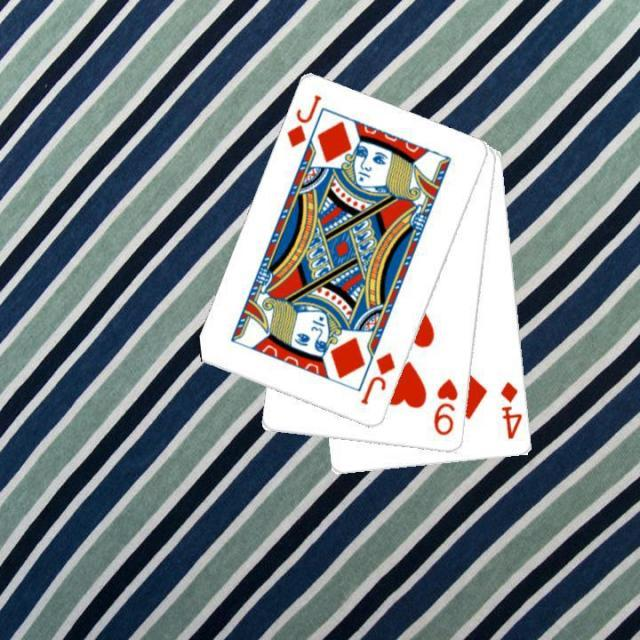4D: (497, 379, 525, 442)
9H: (431, 375, 461, 438)
JD: (283, 91, 324, 151), (357, 349, 398, 407)
